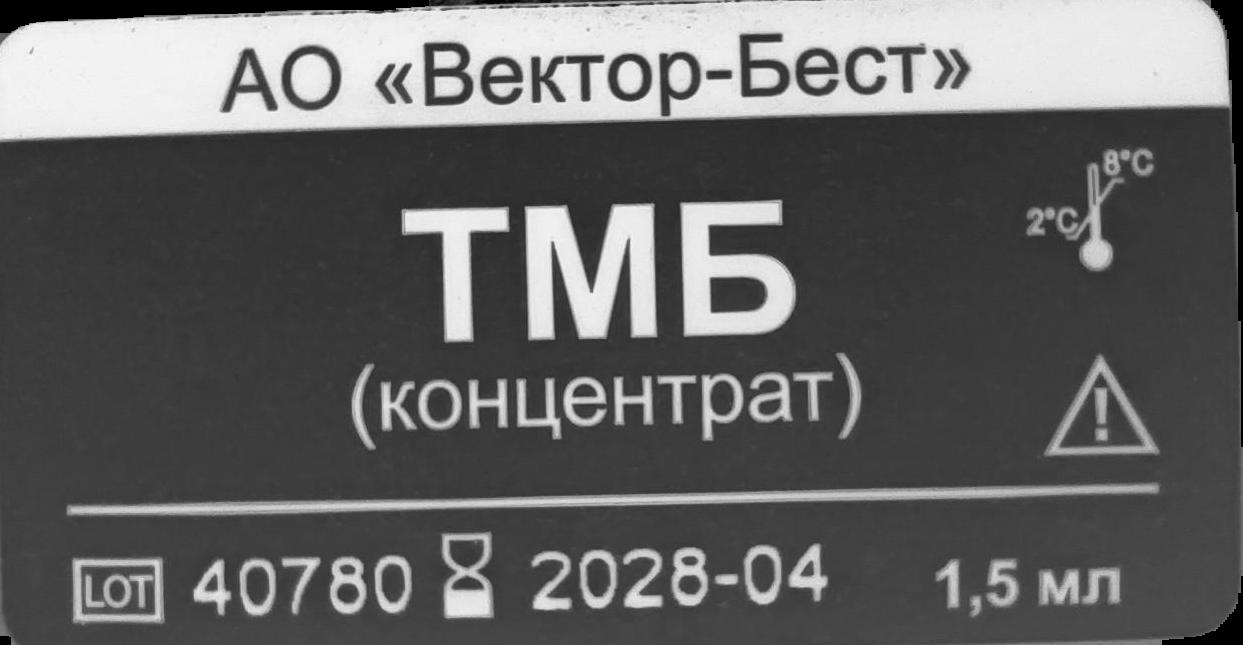something: (1022, 138, 1156, 281), (1035, 351, 1163, 458), (70, 553, 170, 630), (440, 530, 498, 622)
text: (349, 191, 865, 453), (216, 28, 972, 124), (530, 543, 835, 619), (187, 553, 416, 619), (929, 553, 1131, 624)
